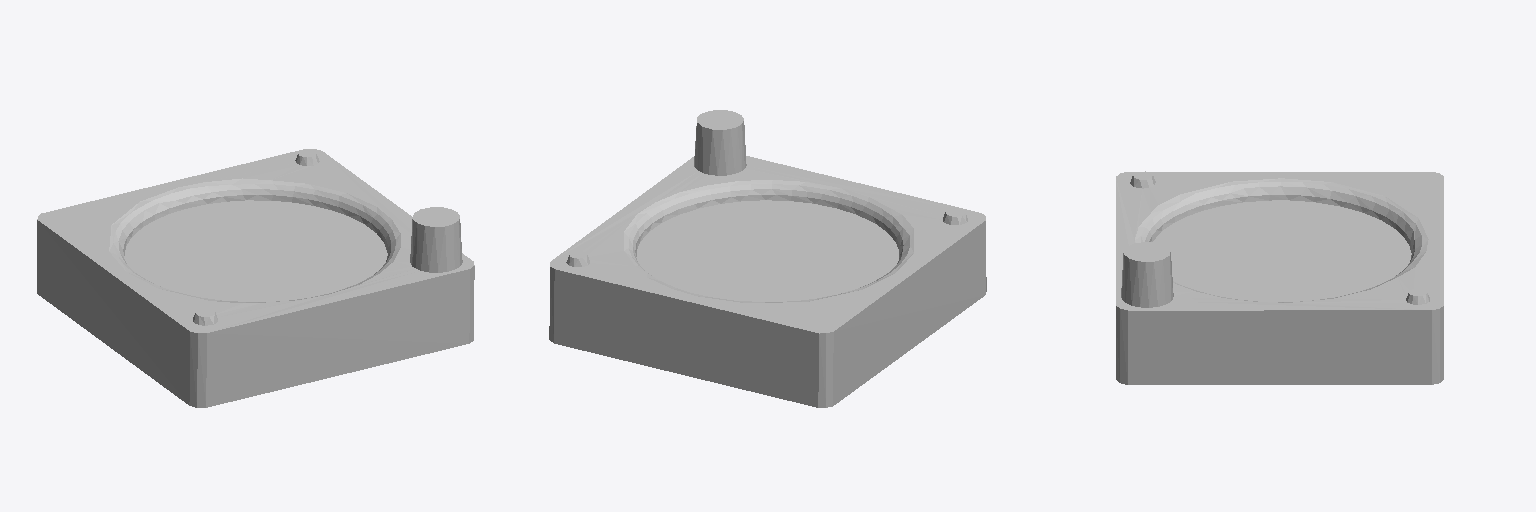
The model's file is RWR_bkp.obj.
3 renders of one model, left to right at view 1: azimuth 30°, elevation 25°; view 2: azimuth 150°, elevation 25°; view 3: azimuth 270°, elevation 25°, orthographic.
Visible parts, largest first — view 1: RWR; view 2: RWR; view 3: RWR.
Part boxes in pixels (left/top/right/bottom): RWR: left=37, top=149, right=474, bottom=407; RWR: left=549, top=110, right=986, bottom=407; RWR: left=1116, top=171, right=1443, bottom=384.
Bounding box in the file's own units: 0.1997 × 0.08 × 0.1997.